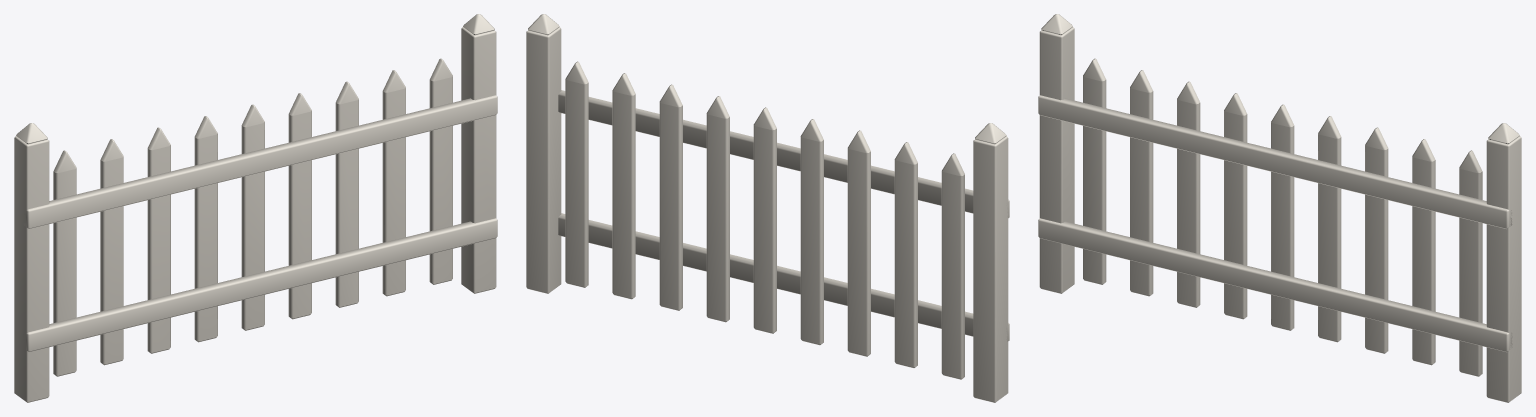
The model's file is fence_section.glb.
The picture shows the model from 3 angles, left to right: view 1: azimuth 30°, elevation 25°; view 2: azimuth 150°, elevation 25°; view 3: azimuth 330°, elevation 25°; orthographic projection.
Parts seen in each view (by area): view 1: Body; view 2: Body; view 3: Body.
Boxes of the visible parts, left/top/right/bottom form: Body: left=14, top=14, right=497, bottom=402; Body: left=526, top=14, right=1009, bottom=402; Body: left=1038, top=14, right=1521, bottom=402.
Size of the model in its own units: 2 by 1.11 by 0.11.
Materials: 1 (1 with a texture image).
